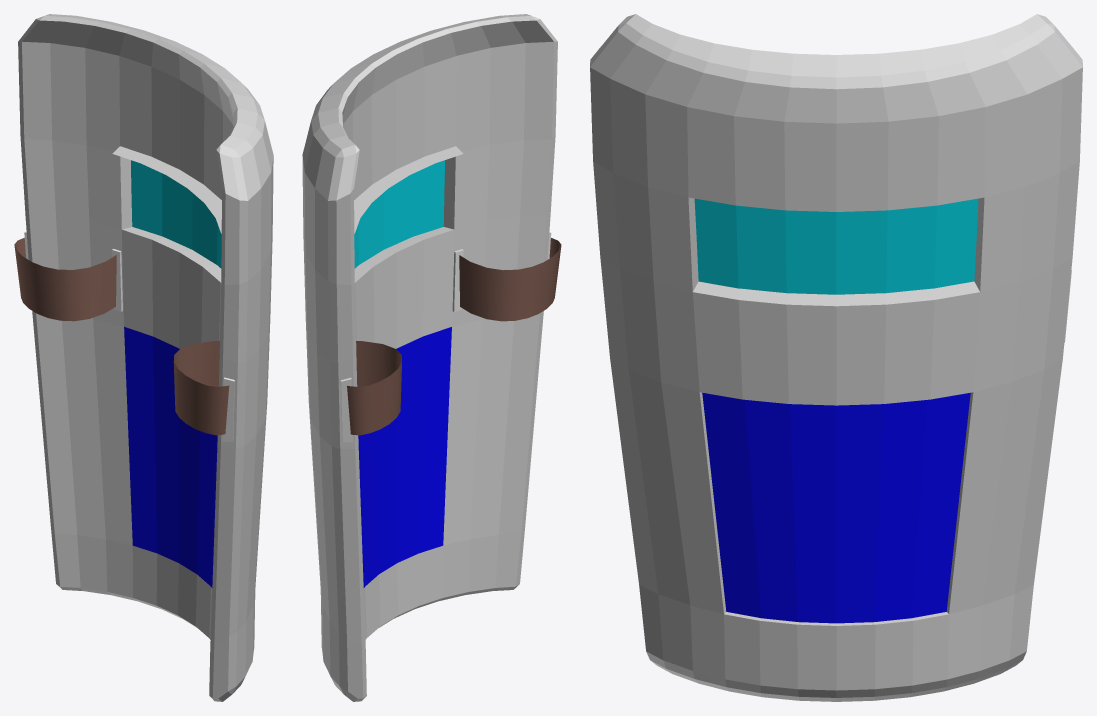
Rendered from riotshield.glb.
The picture shows the model from 3 angles, left to right: view 1: azimuth 30°, elevation 25°; view 2: azimuth 150°, elevation 25°; view 3: azimuth 270°, elevation 25°; orthographic projection. The views are drawn at different scales.
Visible parts, largest first — view 1: Cylinder, BezierCurve; view 2: Cylinder, BezierCurve; view 3: Cylinder.
Boxes of the visible parts, <box> form: Cylinder: <box>18,14,273,701</box>; BezierCurve: <box>14,238,229,435</box>; Cylinder: <box>302,14,557,701</box>; BezierCurve: <box>347,238,561,435</box>; Cylinder: <box>590,14,1082,701</box>.
Bounding box in the file's own units: 0.6015 × 2.49 × 1.73.
